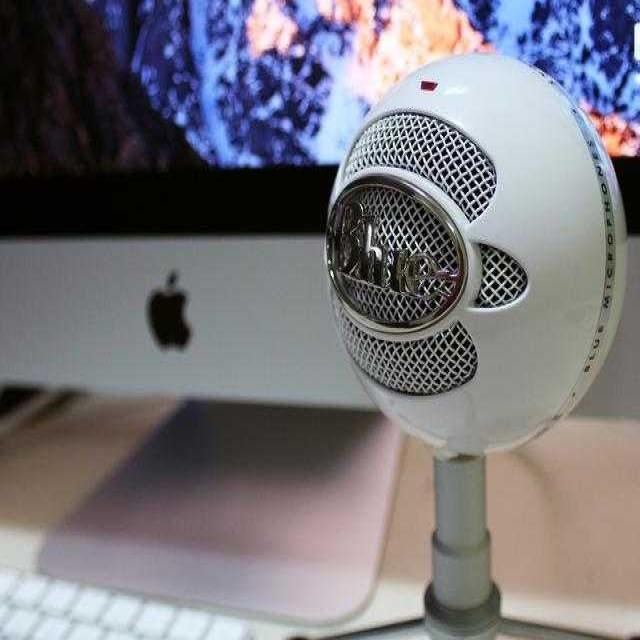microphone: (329, 56, 620, 454)
